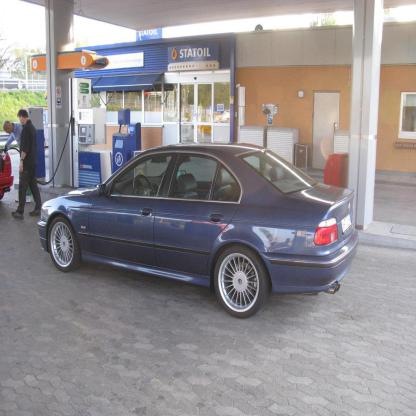Car: (36, 141, 358, 320), (0, 153, 14, 202)
